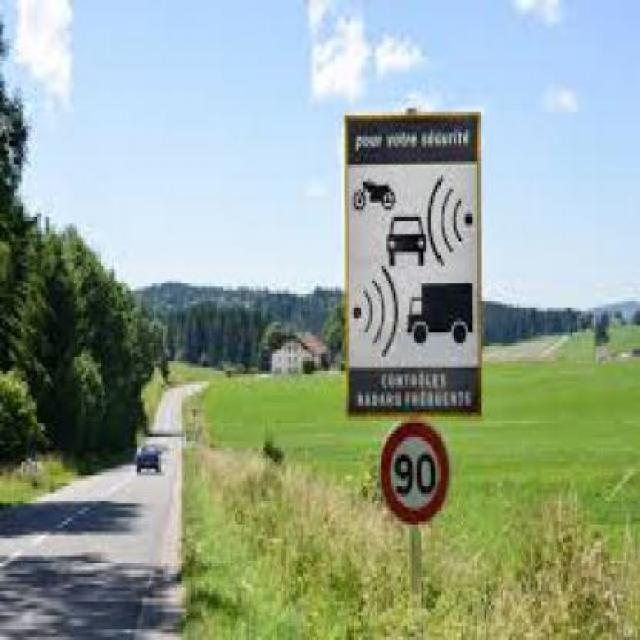Ograniczenie predkosci do 90: (381, 422, 452, 525)
